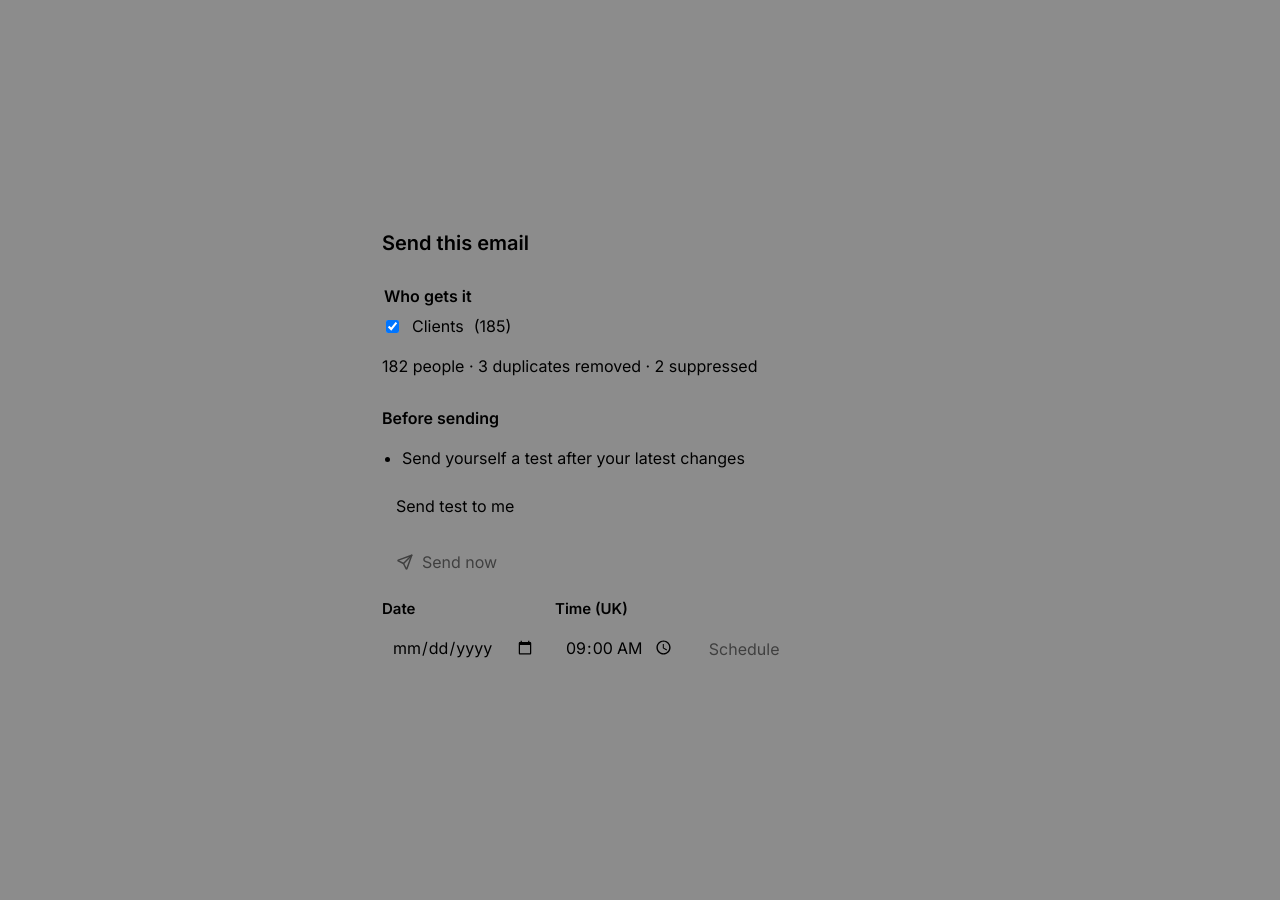
it: send dialog › sends a test to the signed-in user and re-checks
The image size is (1280, 900).
Click the button "Send test to me".
click(455, 506)  # box [382,486,528,526]
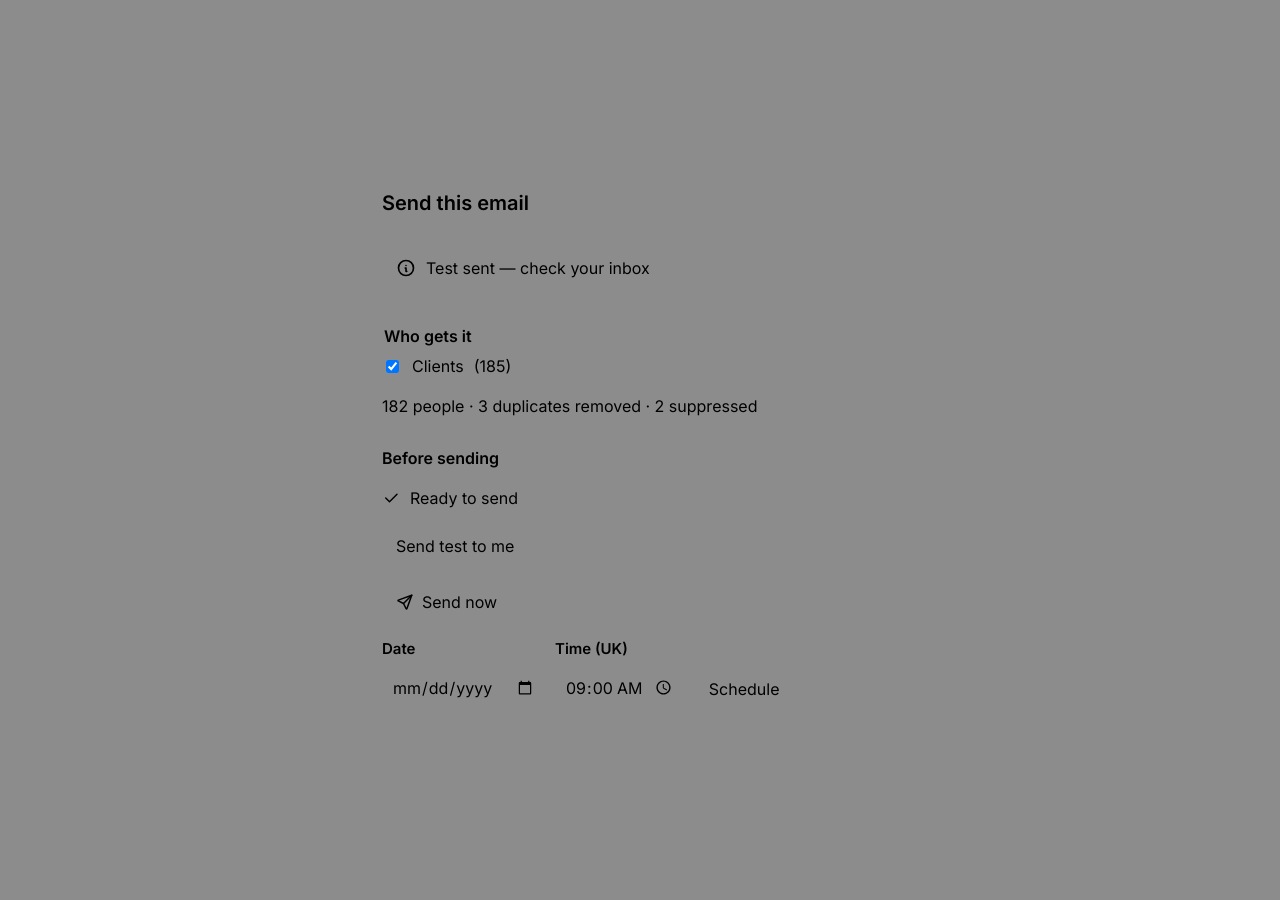
Expected: the text "Test sent — check your inbox" is shown, [426,258,650,278]
Expected: the button "Send now" is enabled, [382,582,511,622]
